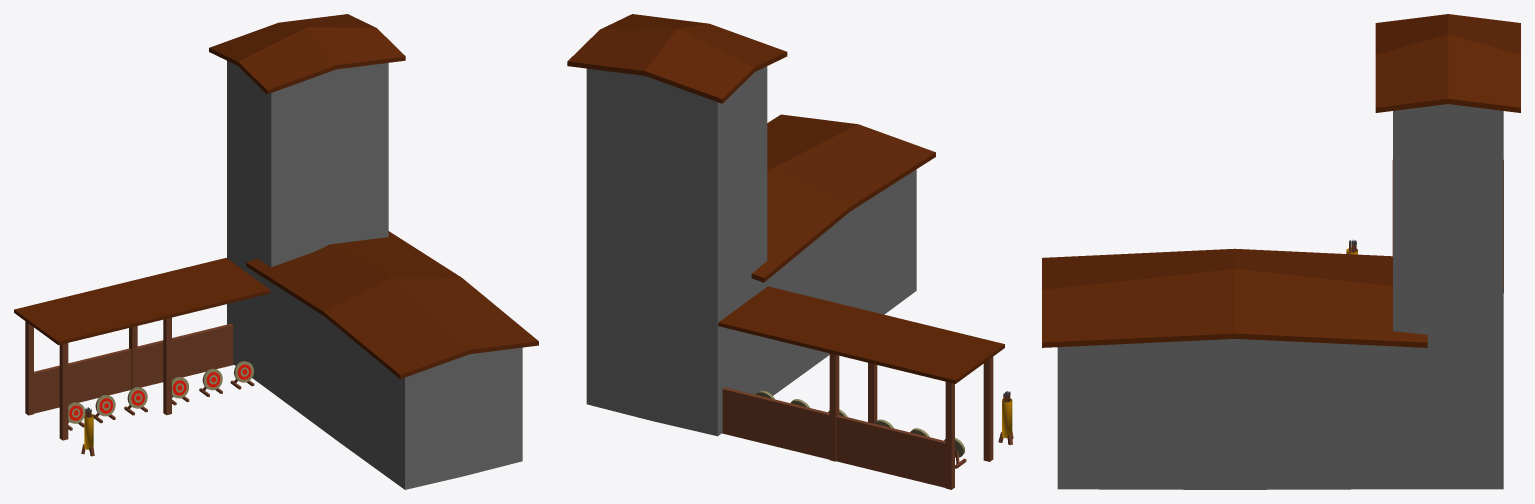
The model's file is rangedBuilding.fbx.
The picture shows the model from 3 angles, left to right: view 1: azimuth 30°, elevation 25°; view 2: azimuth 150°, elevation 25°; view 3: azimuth 270°, elevation 25°; orthographic projection. The views are drawn at different scales.
Visible parts, largest first — view 1: Cube; view 2: Cube; view 3: Cube.
Boxes of the visible parts, bbox=[...] form: Cube: bbox=[14, 14, 538, 489]; Cube: bbox=[567, 14, 1013, 489]; Cube: bbox=[1042, 14, 1520, 489].
Bounding box in the file's own units: 1766 × 1663 × 1716.
